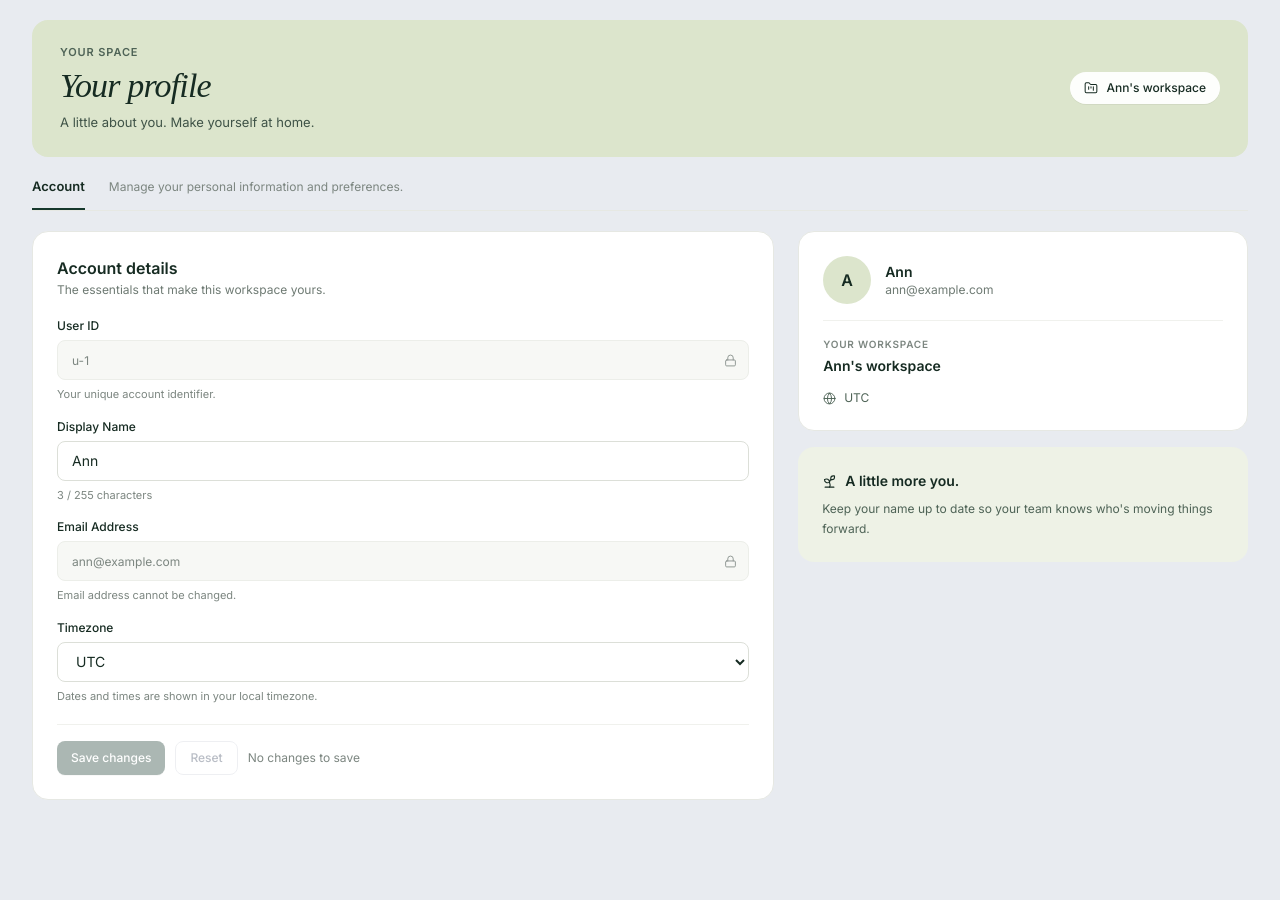
Test case: ProfilePage › unsaved changes, reset, counter and avatar › removes beforeunload after a successful save and the form becomes clean
In the field labelled "Display Name": {"x": 403, "y": 460} top-left (57, 440), bottom-right (749, 480), type "nie"
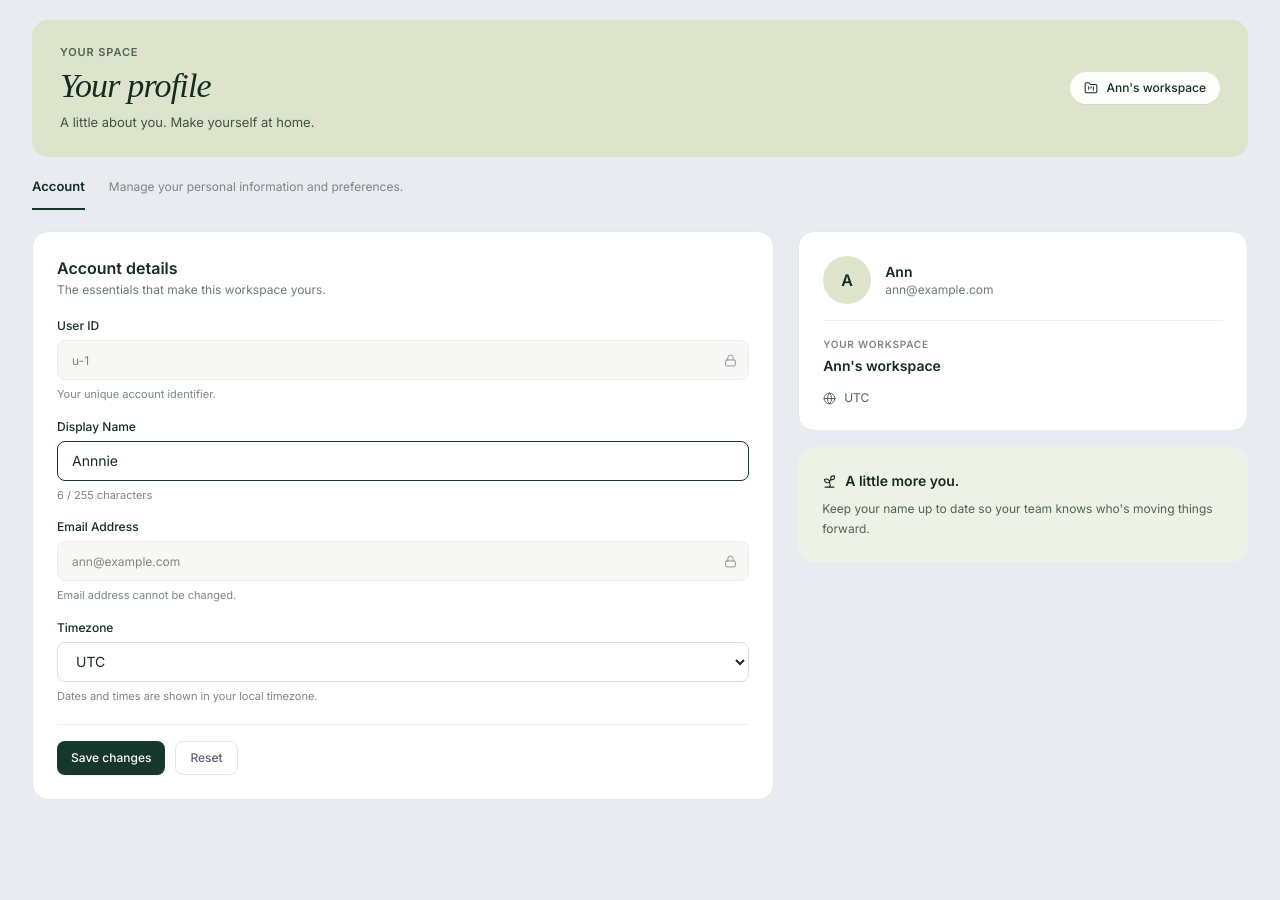
Click the button "Save changes": {"x": 111, "y": 758} top-left (57, 741), bottom-right (165, 775)
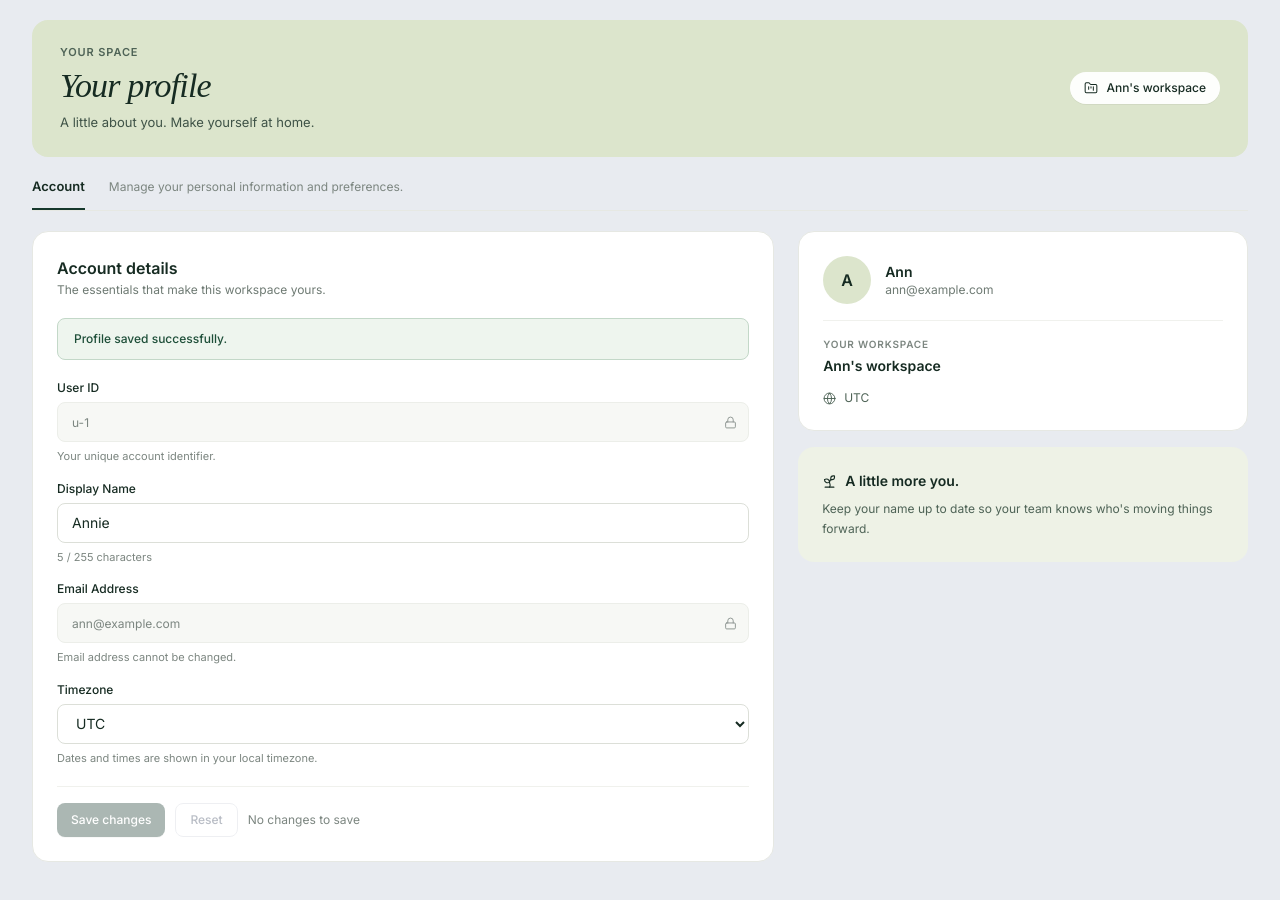
Check: the text "Profile saved successfully." is shown, box top-left (57, 318), bottom-right (749, 360)
Check: the field labelled "Display Name" holds "Annie", box top-left (57, 502), bottom-right (749, 542)
Check: the button "Save changes" is disabled, box top-left (57, 803), bottom-right (165, 837)
